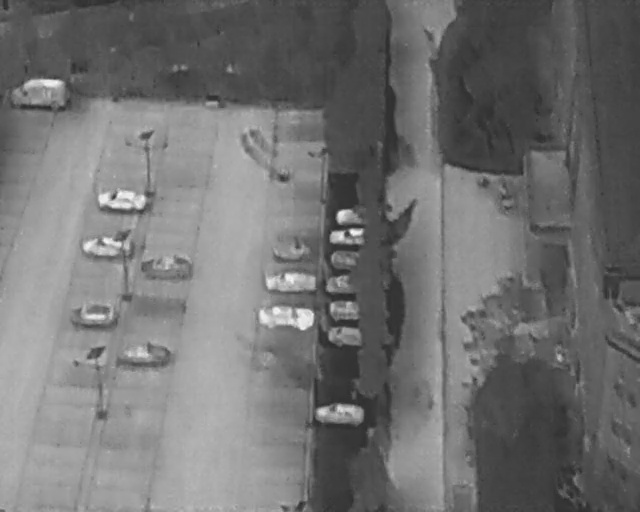Car: (11, 77, 68, 110), (257, 306, 316, 332), (141, 255, 191, 280), (117, 344, 171, 366), (265, 272, 316, 293), (70, 304, 116, 327), (82, 237, 130, 259), (315, 405, 365, 426), (96, 191, 147, 211), (330, 325, 365, 346), (323, 276, 363, 294), (330, 250, 364, 271), (329, 299, 362, 320), (329, 228, 368, 245), (336, 208, 369, 226)
